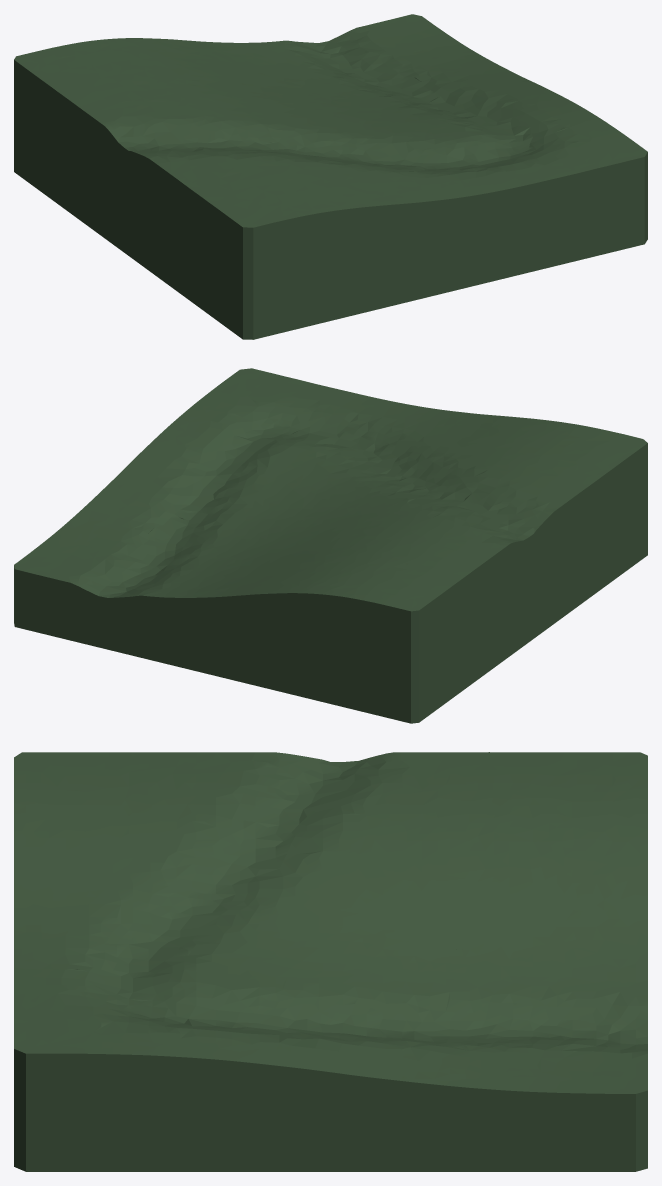
File: terrain.fbx
3 renders of one model, top to bottom at view 1: azimuth 30°, elevation 25°; view 2: azimuth 150°, elevation 25°; view 3: azimuth 270°, elevation 25°, orthographic. The views are drawn at different scales.
Parts seen in each view (by area): view 1: terrain1; view 2: terrain1; view 3: terrain1.
Part boxes in pixels (left/top/right/bottom): terrain1: left=14, top=14, right=647, bottom=339; terrain1: left=14, top=368, right=647, bottom=723; terrain1: left=14, top=752, right=647, bottom=1171.
Size of the model in its own units: 1250 by 330 by 1250.
